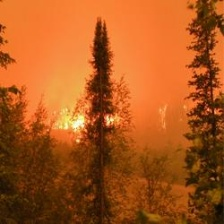fire: (30, 83, 221, 137)
